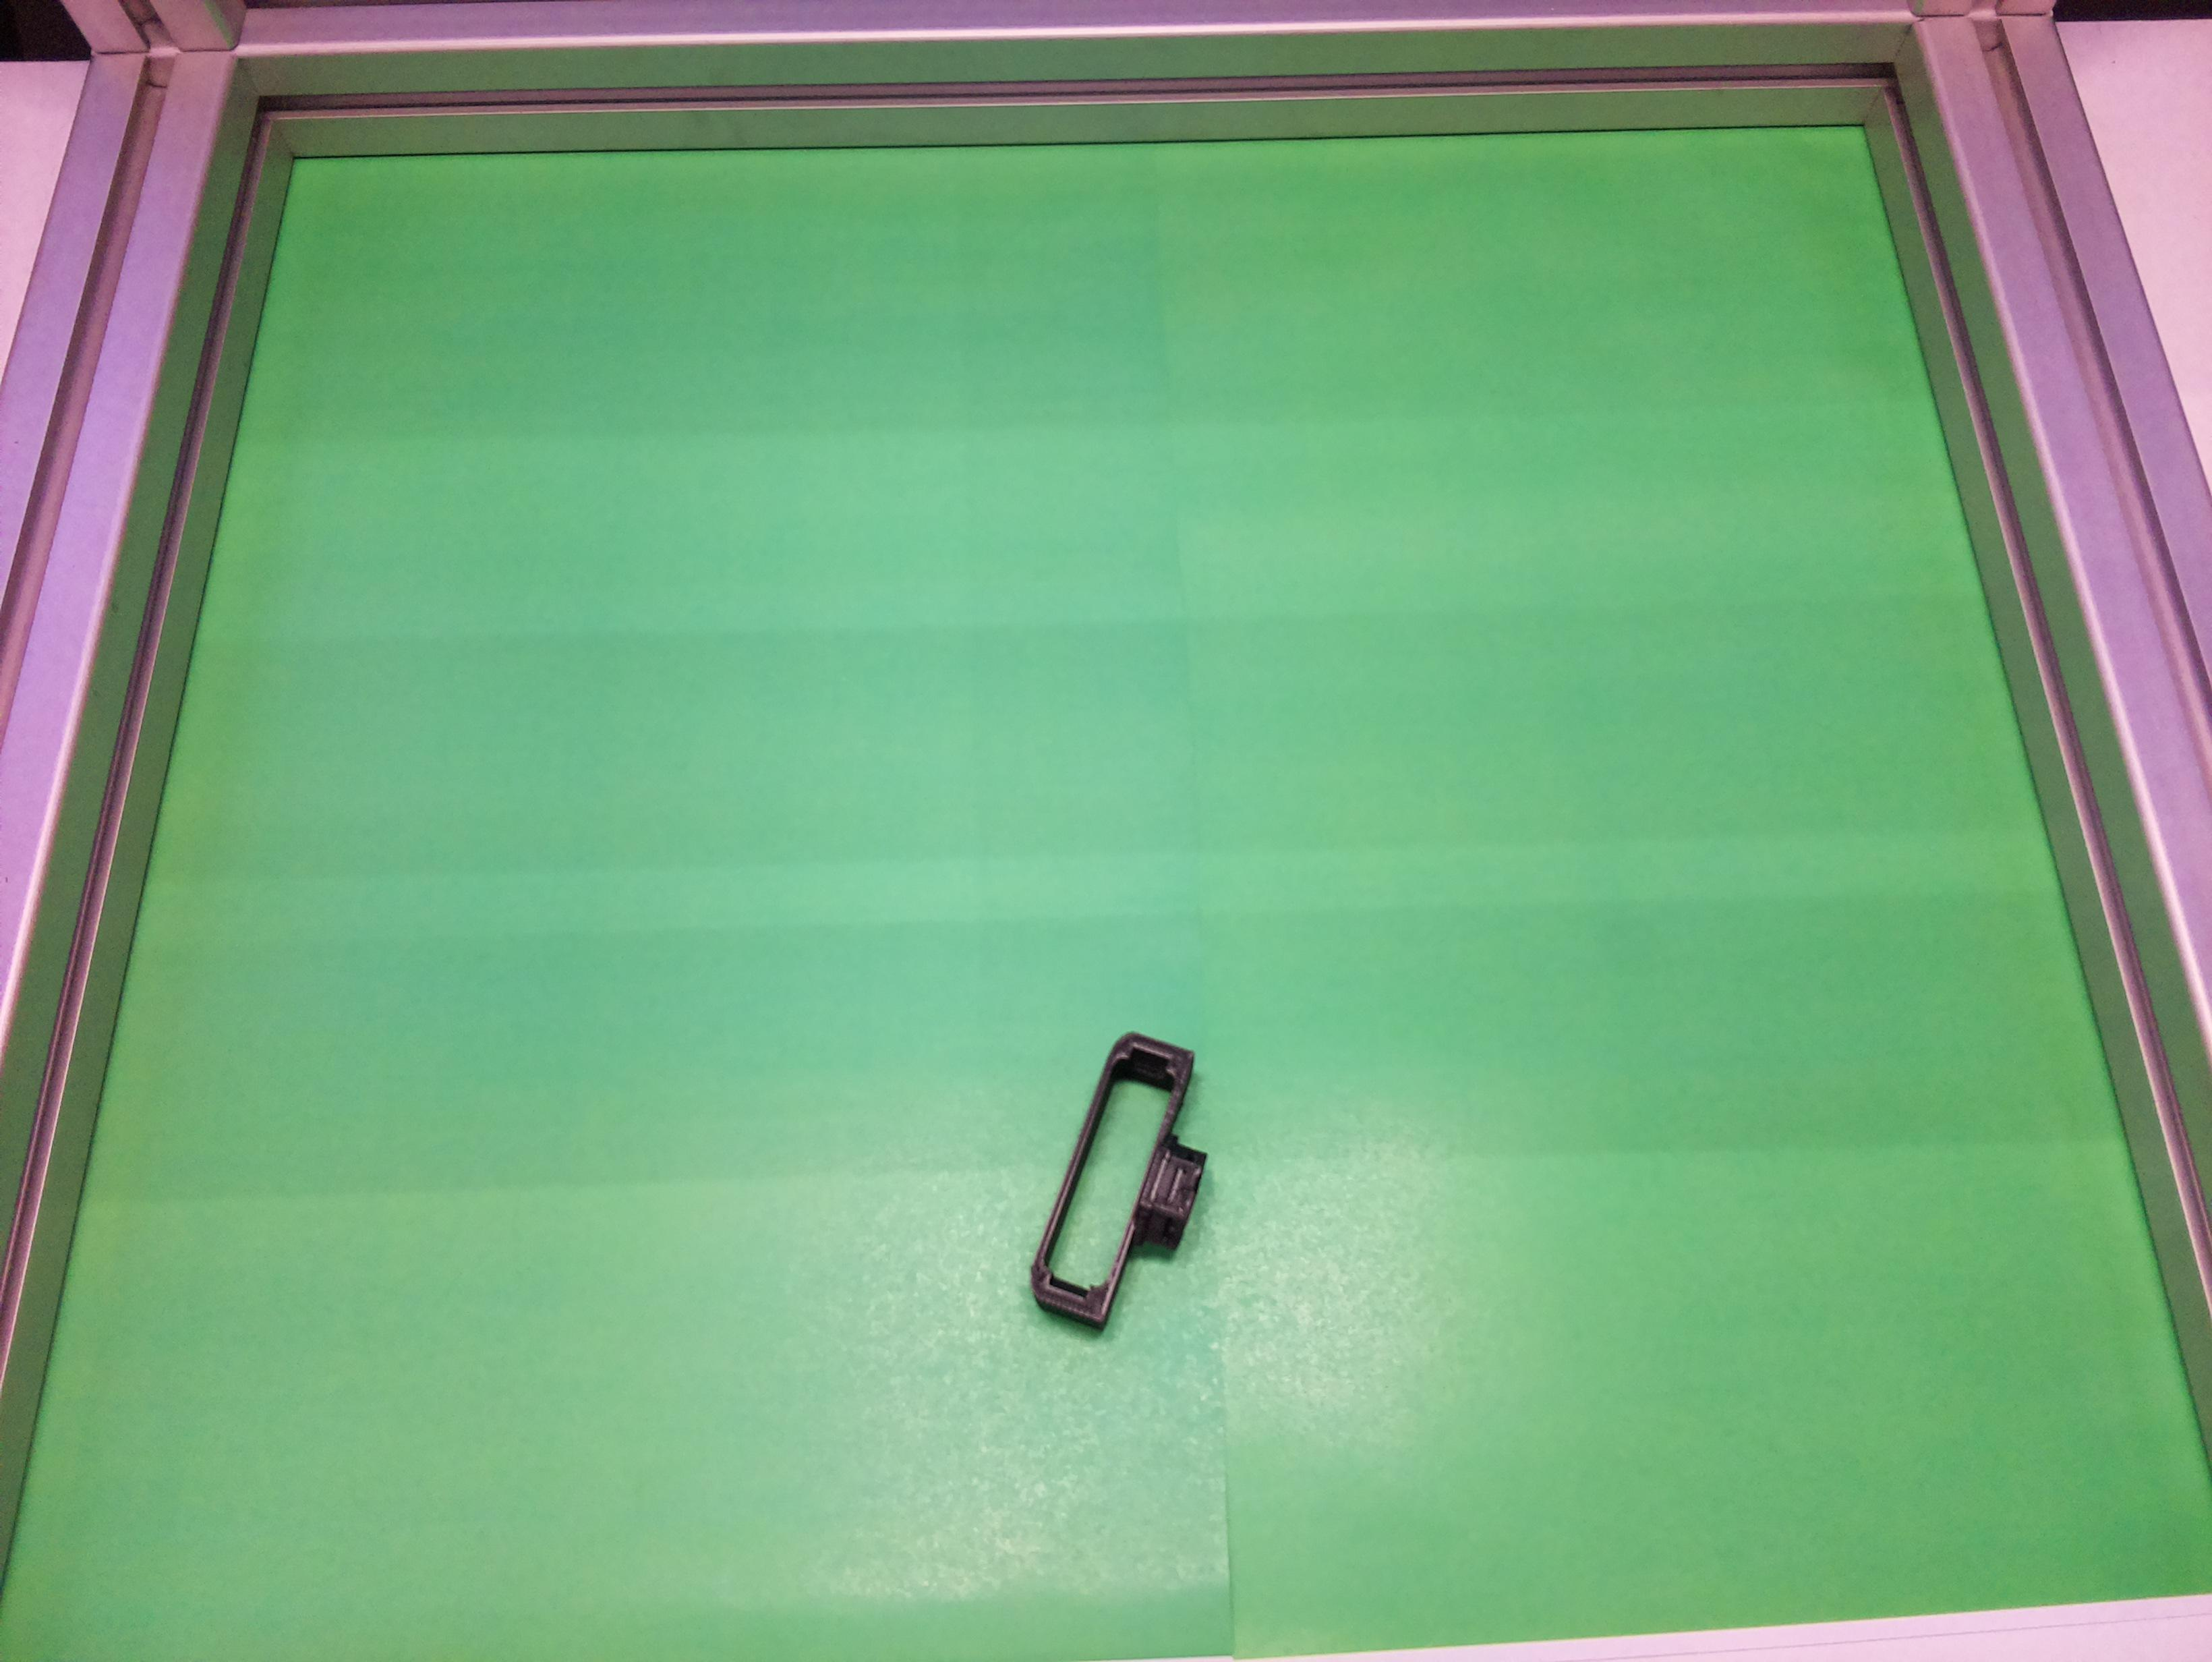cutter_holder: (1018, 1025, 1241, 1346)
